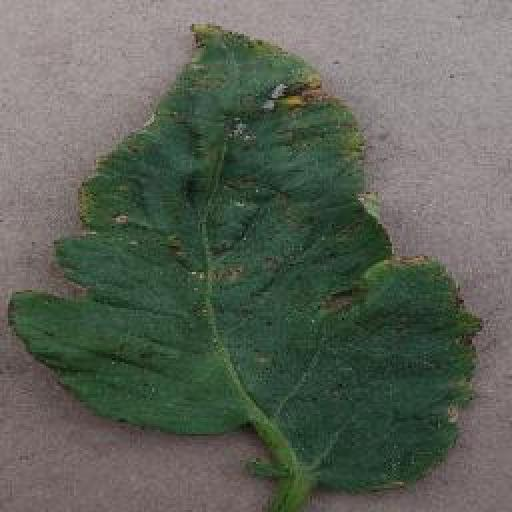Bacterial Spot: (9, 16, 483, 501)
